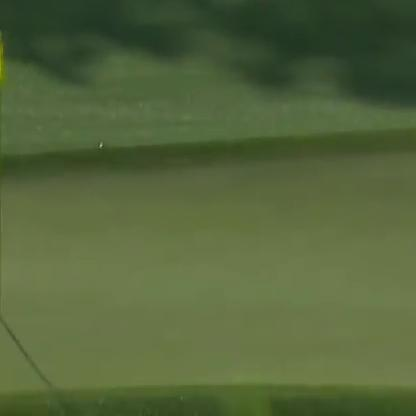golfball: (97, 136, 102, 146)
